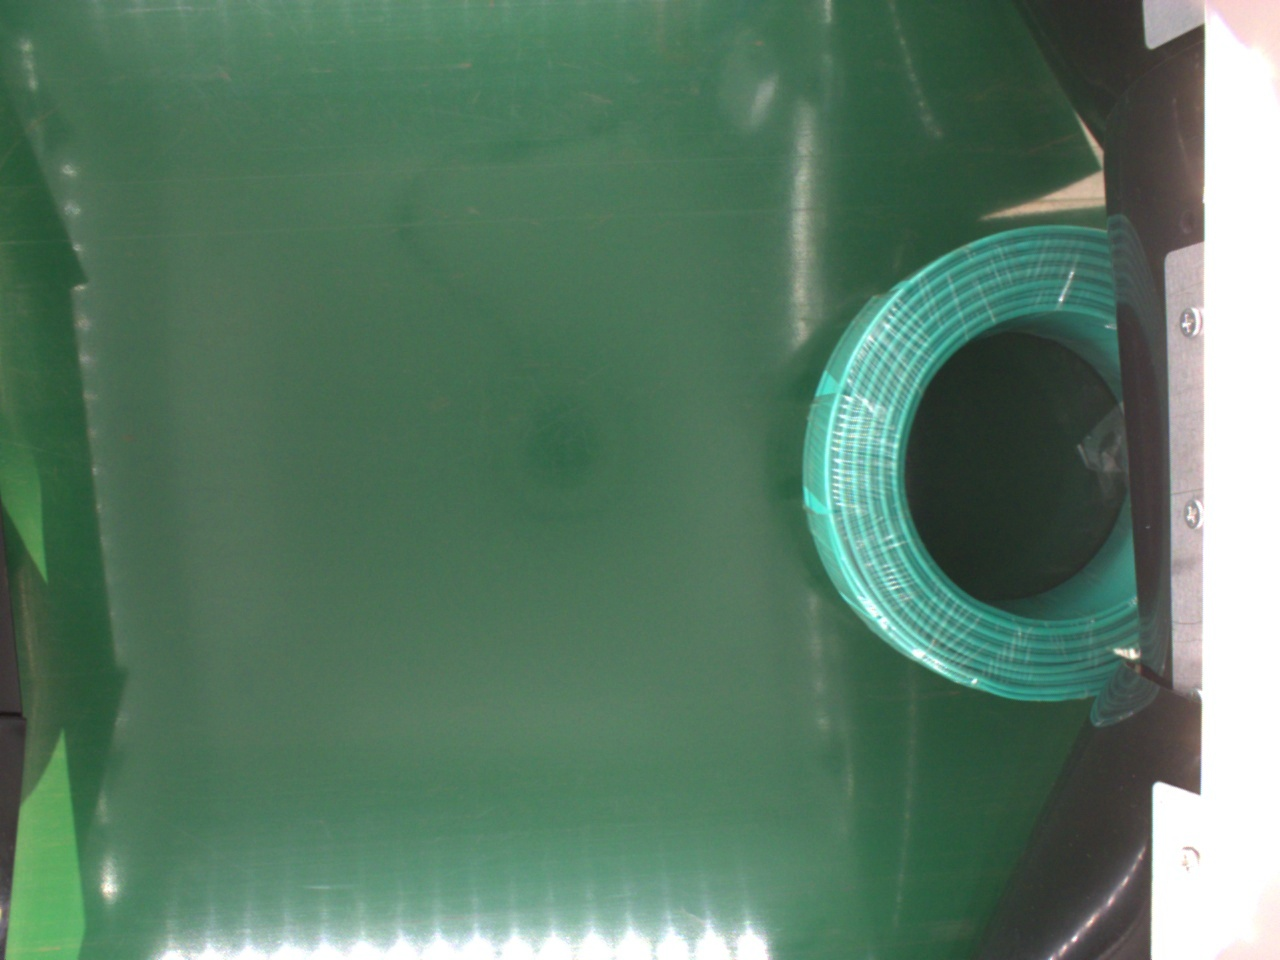green: (803, 229, 1145, 704)
